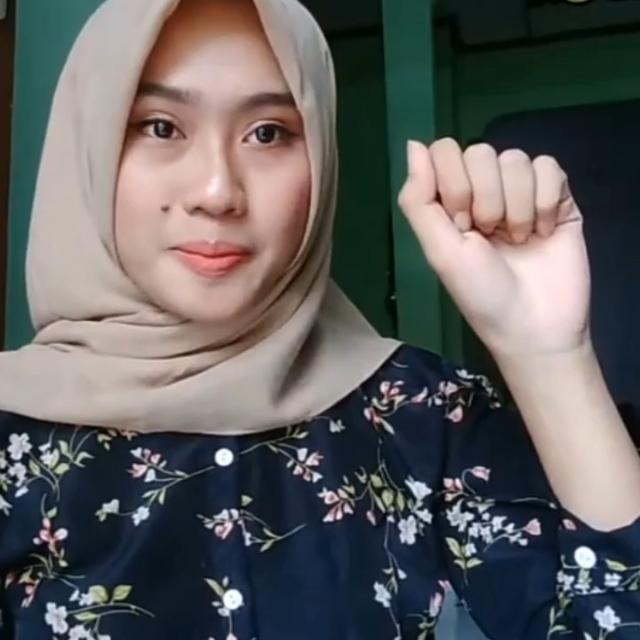B: (394, 133, 594, 369)
